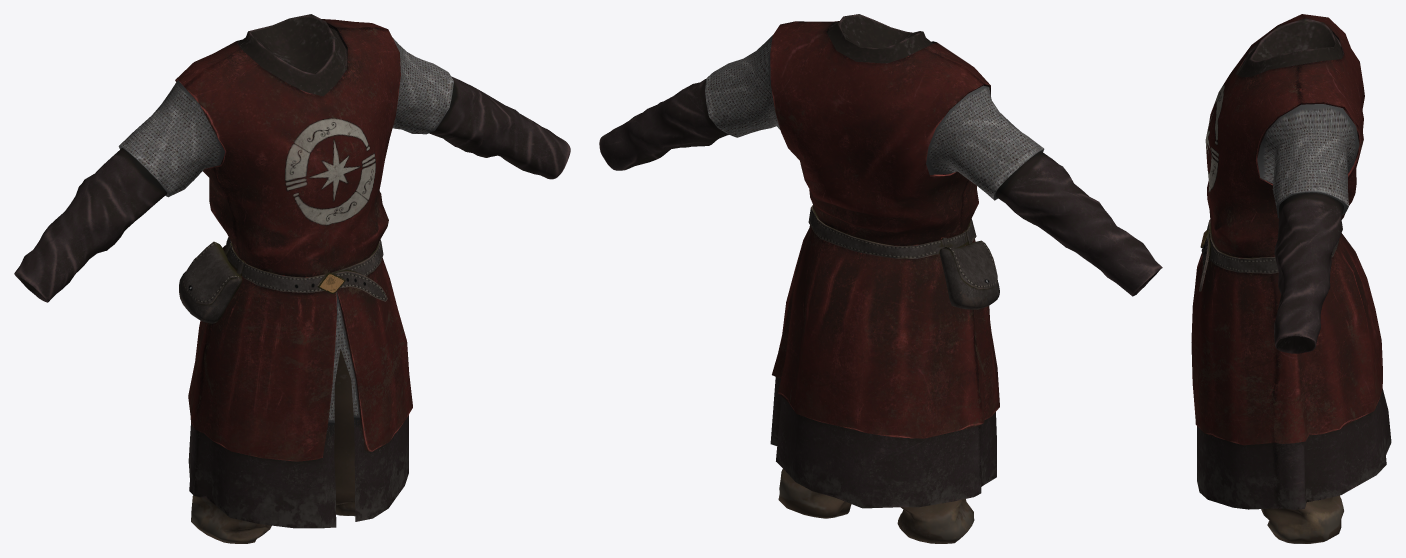
File: cts_gondor_armor1.fbx
3 renders of one model, left to right at view 1: azimuth 30°, elevation 25°; view 2: azimuth 150°, elevation 25°; view 3: azimuth 270°, elevation 25°, orthographic. The views are drawn at different scales.
Parts seen in each view (by area): view 1: cts_gondor_armor1; view 2: cts_gondor_armor1; view 3: cts_gondor_armor1.
Boxes of the visible parts, x1=… form: cts_gondor_armor1: x1=14, y1=14, x2=570, y2=543; cts_gondor_armor1: x1=599, y1=14, x2=1162, y2=543; cts_gondor_armor1: x1=1191, y1=14, x2=1391, y2=543.
Size of the model in its own units: 1.38 by 0.4511 by 1.18.
Materials: 1 (1 with a texture image).
